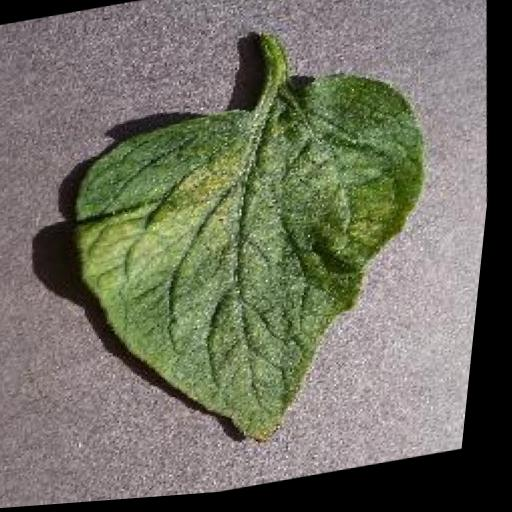Spider Mites: (46, 59, 461, 484)
